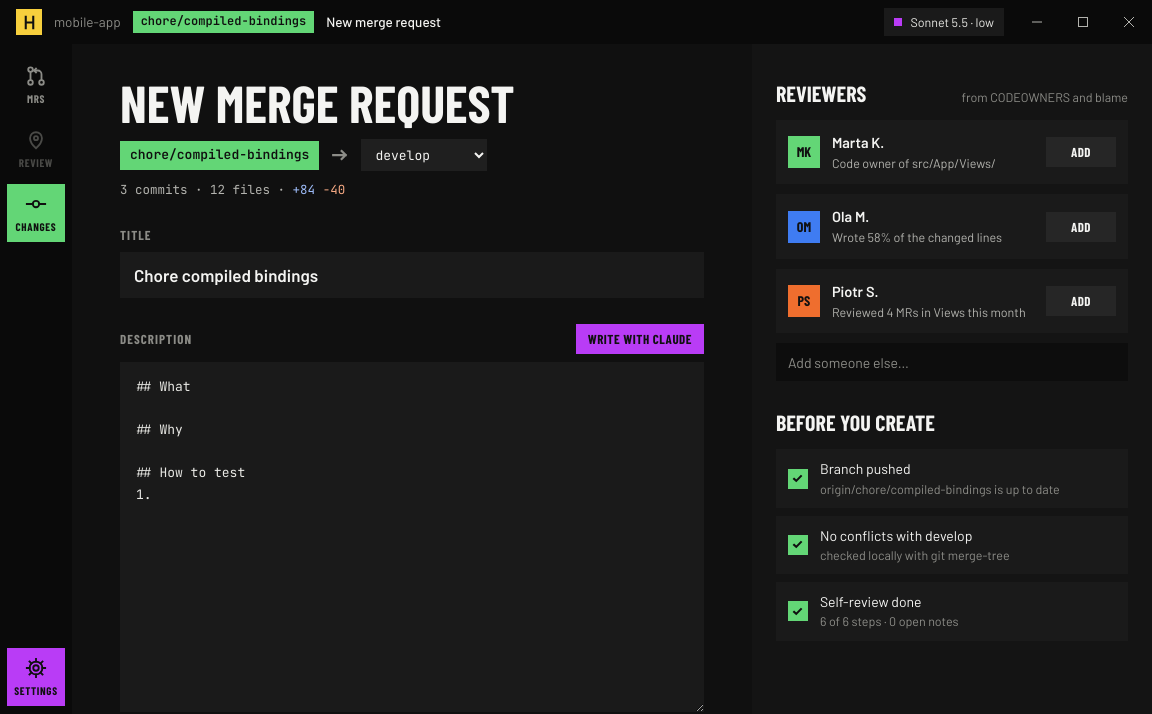
Test: S-11 reviewers (F-27.3) › F-27.3 a person from the search is added as Added by you, removed again with Remove
Expected: the text "Marta K." is shown, [832,133,884,151]
Type "anna" into the field named "Add another reviewer" at (952,362), box [776,343,1128,381]
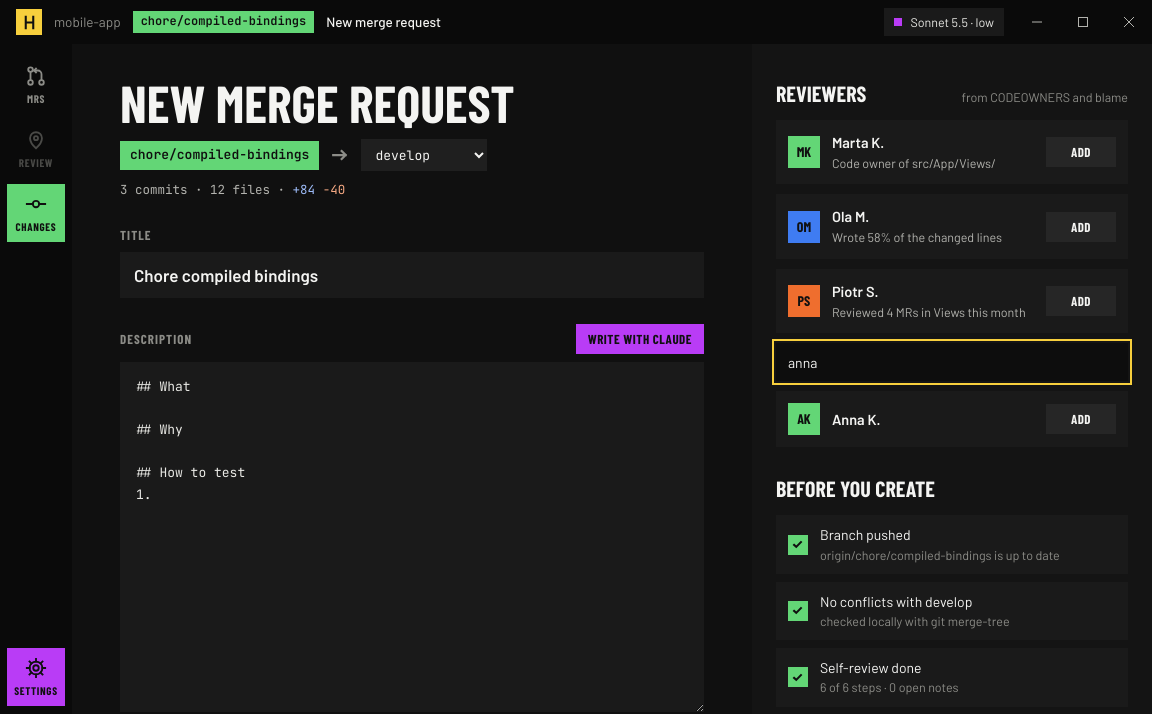
Click the button with aria-label "Add Anna K." at (1081,419), box [1046,404,1116,434]
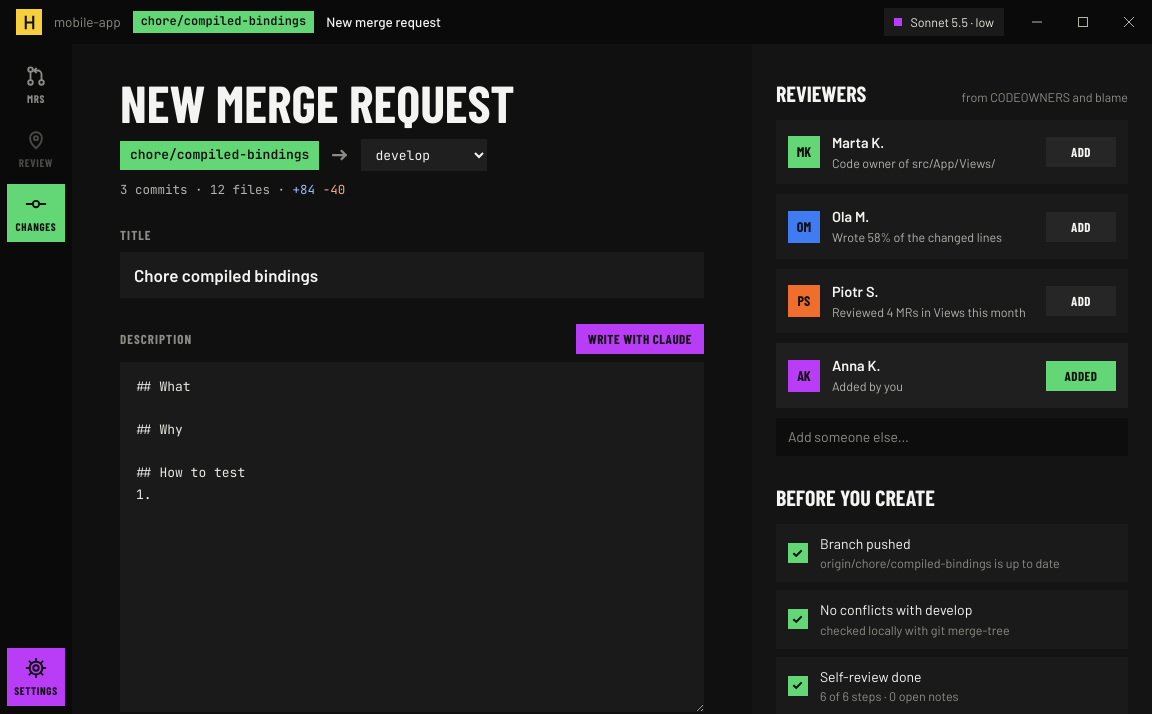
Expected: the field named "Add another reviewer" is empty, [776,418,1128,456]
Expected: the text "Added by you" is shown, [832,378,903,394]
Expected: the button with aria-label "Remove Anna K." reads "Added"
Click the button with aria-label "Remove Anna K." at (1081,376), box [1046,361,1116,391]
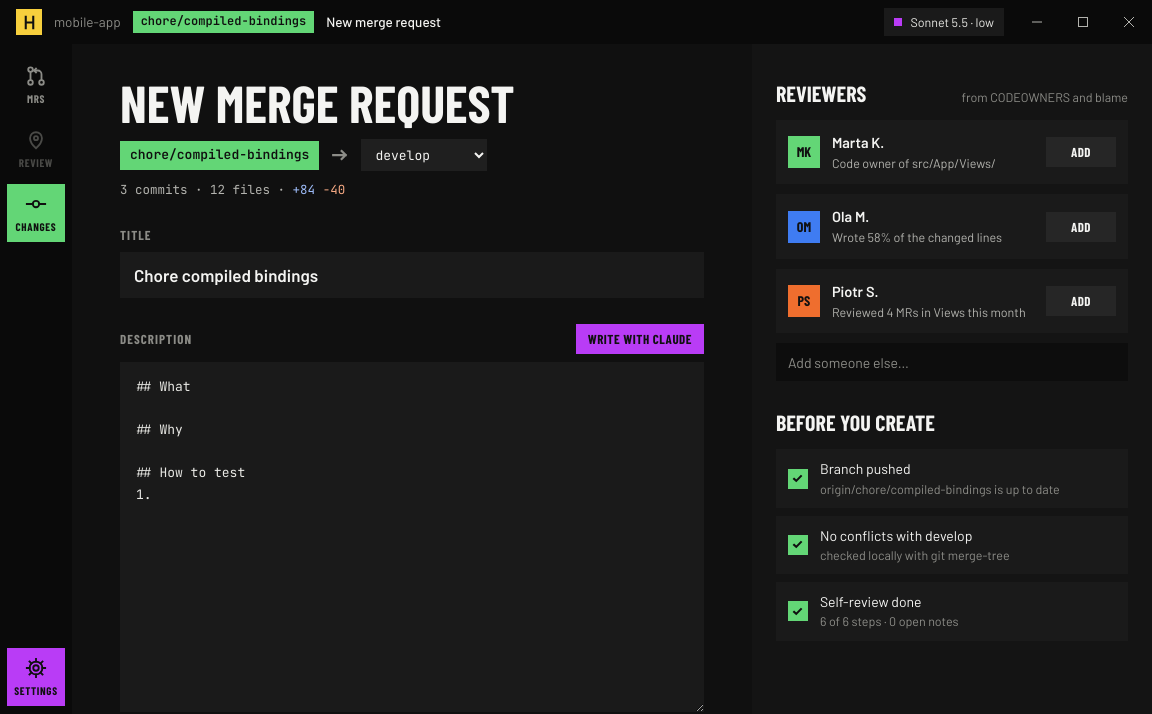
Expected: the text "Anna K." is gone
